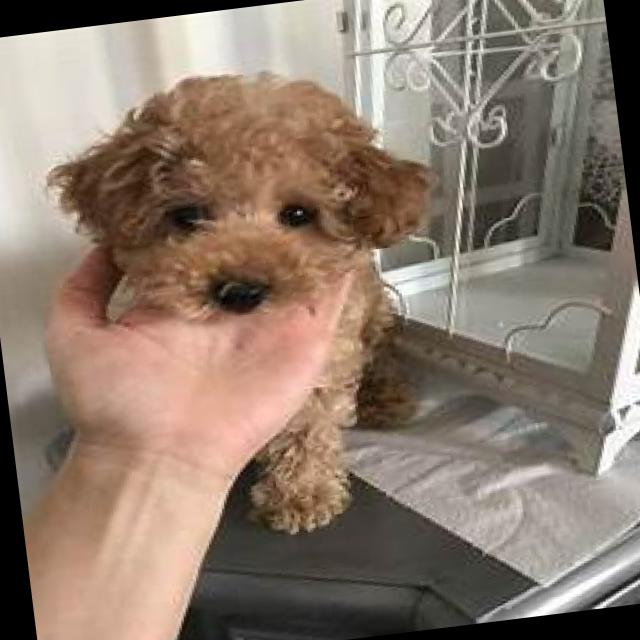dog: (2, 43, 480, 563)
